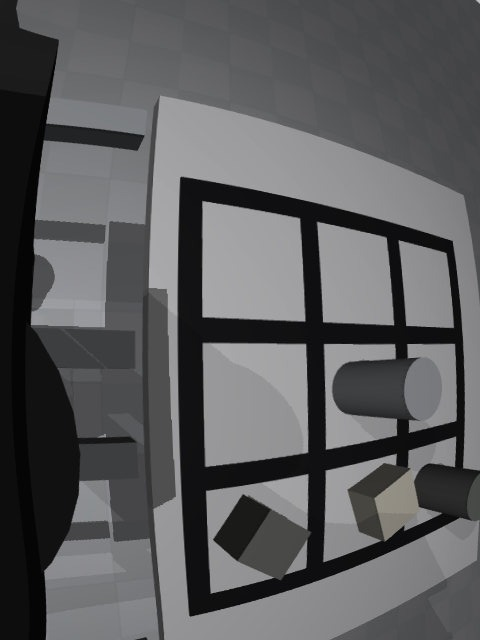can: (332, 357, 442, 421)
cube: (213, 494, 312, 580)
cylinder: (414, 463, 480, 521)
foam: (347, 463, 420, 542)
